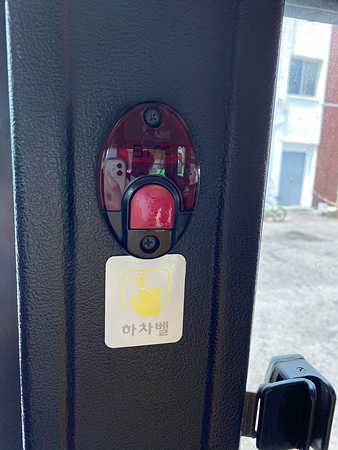bell: (97, 100, 199, 259)
